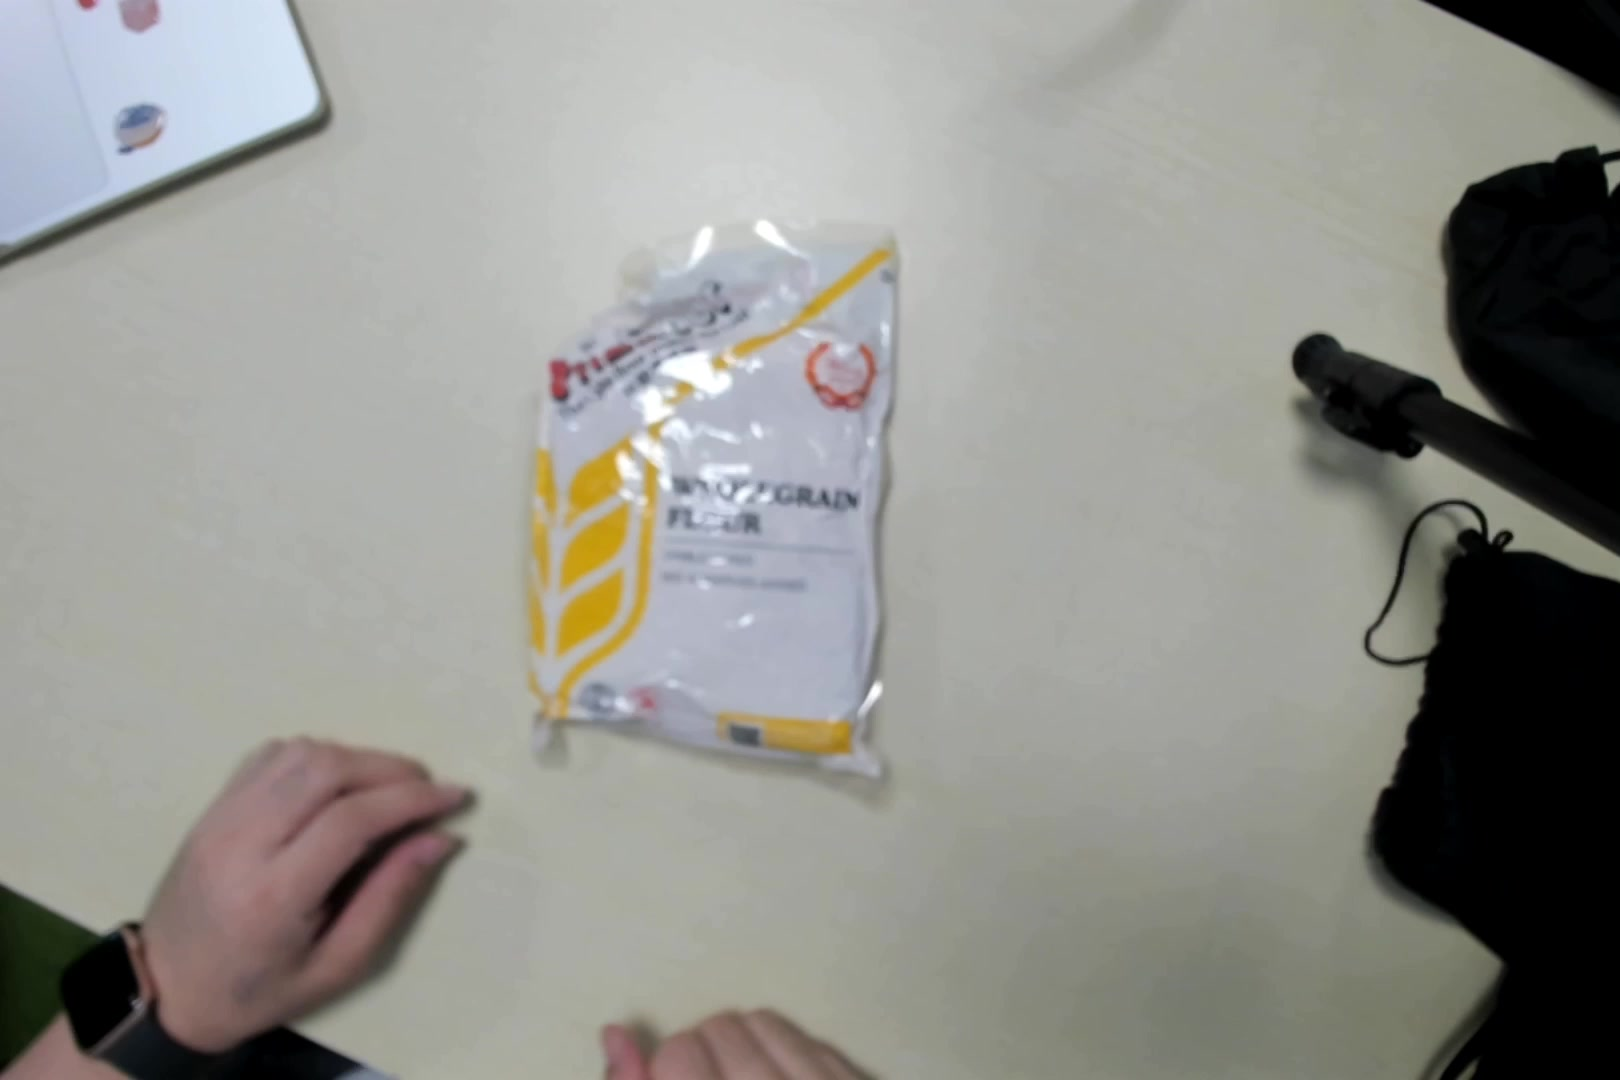OtherBakingNeeds_400-499g_Halal_NonHealthy: (526, 218, 906, 791)
